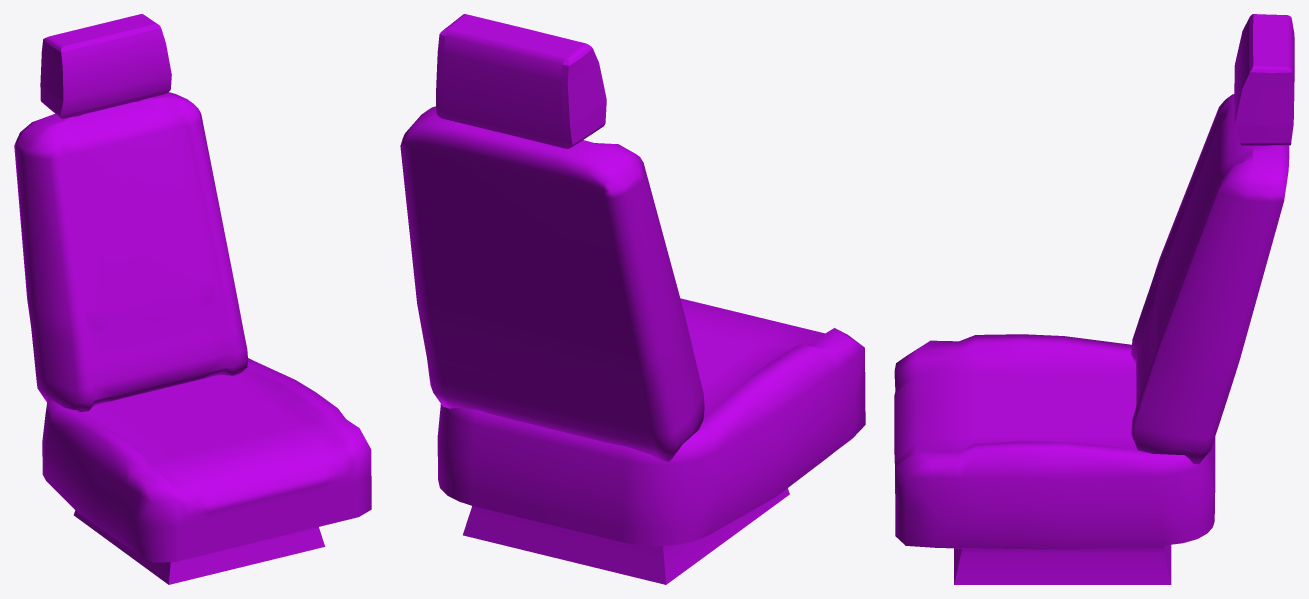
The model's file is PickUp_PickUp_Seat.fbx.
The picture shows the model from 3 angles, left to right: view 1: azimuth 30°, elevation 25°; view 2: azimuth 150°, elevation 25°; view 3: azimuth 270°, elevation 25°; orthographic projection. The views are drawn at different scales.
Parts seen in each view (by area): view 1: PickUp_PickUp_Seat; view 2: PickUp_PickUp_Seat; view 3: PickUp_PickUp_Seat.
Boxes of the visible parts, left/top/right/bottom form: PickUp_PickUp_Seat: left=14, top=14, right=371, bottom=584; PickUp_PickUp_Seat: left=400, top=14, right=865, bottom=584; PickUp_PickUp_Seat: left=894, top=14, right=1294, bottom=584.
Bounding box in the file's own units: 59.08 × 108 × 78.6.
